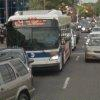buses: (3, 8, 72, 73), (86, 32, 100, 62)
